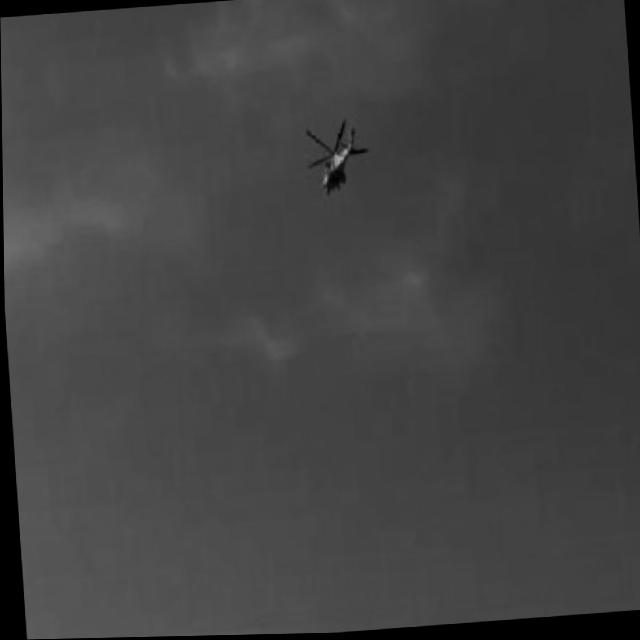helikopter: (303, 121, 370, 197)
